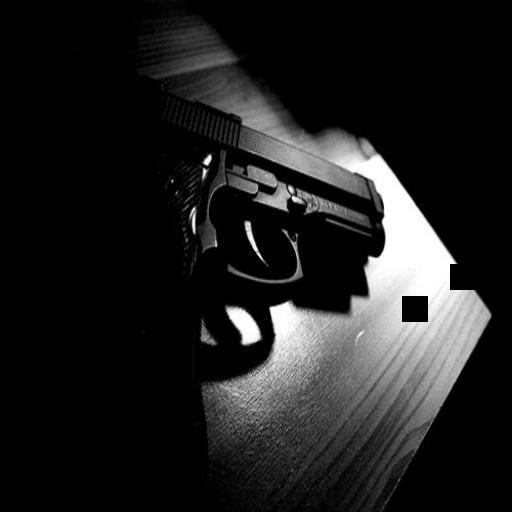Handgun: (90, 52, 390, 406)
